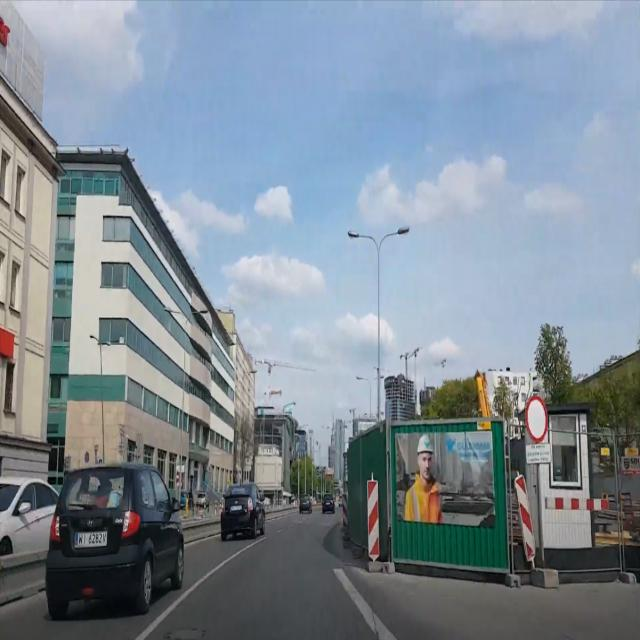Zakaz ruchu w obu kierunkach: (525, 396, 548, 440)
